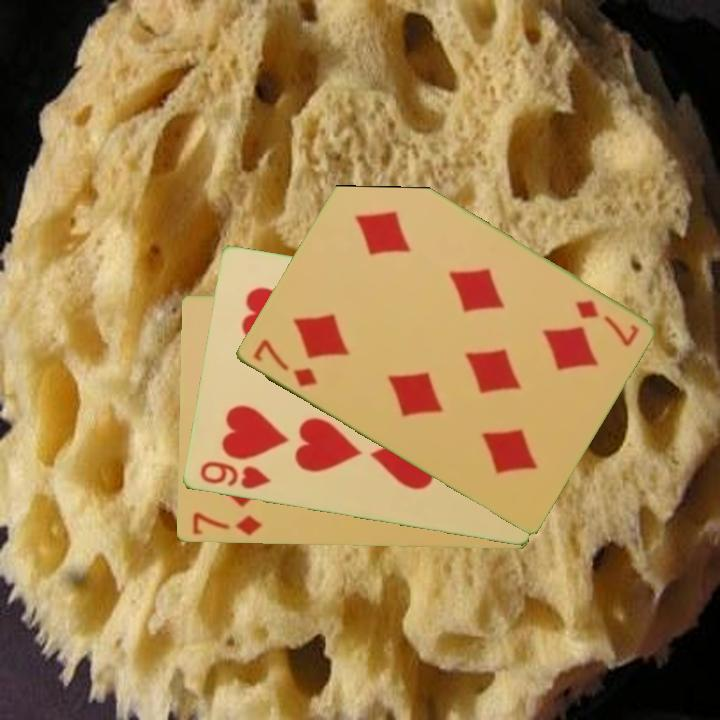7d: (249, 335, 320, 391), (571, 296, 642, 350), (188, 510, 265, 539)
9h: (196, 458, 273, 493)
